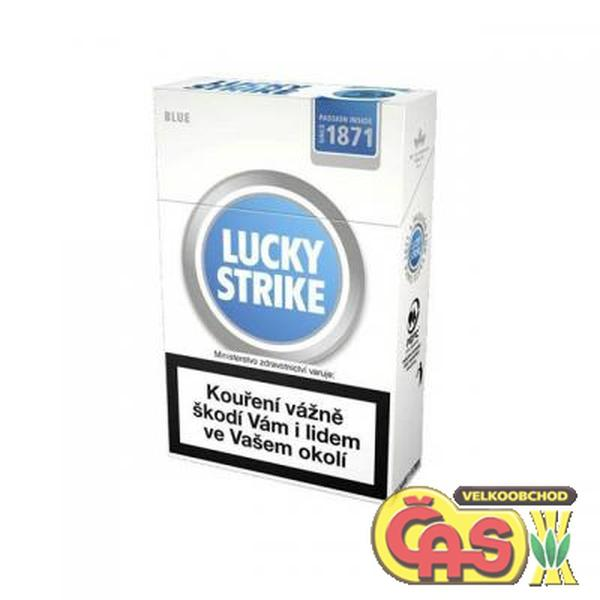lucky_strike_blue: (165, 96, 393, 447)
